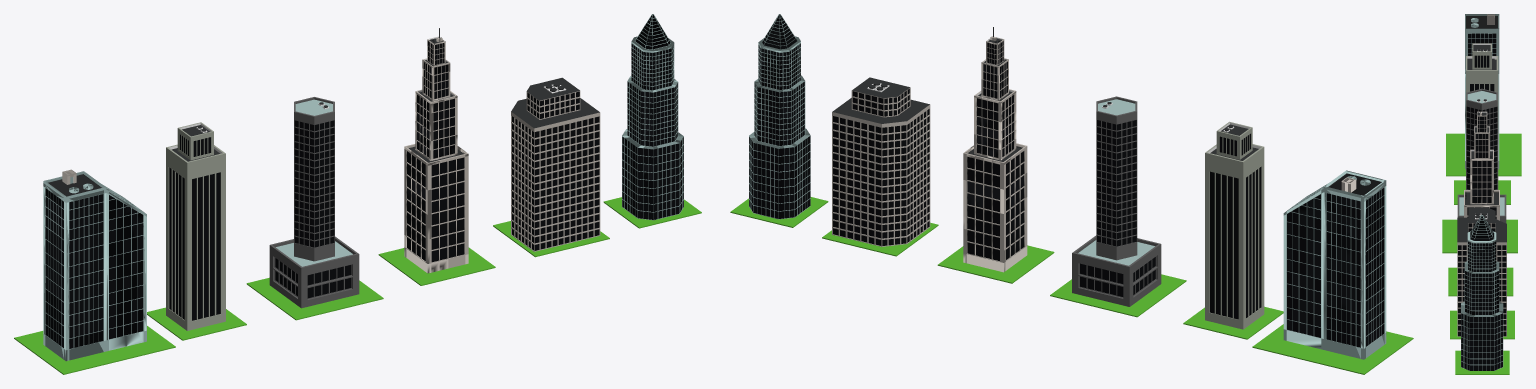
The picture shows the model from 3 angles, left to right: view 1: azimuth 30°, elevation 25°; view 2: azimuth 150°, elevation 25°; view 3: azimuth 270°, elevation 25°; orthographic projection. The views are drawn at different scales.
Visible parts, largest first — view 1: building_3, buildin_6_1, building_4, building_2, buliding_1, building_5, floor_5, floor_3, floor_6, floor_4, floor, floor_2; view 2: building_3, buildin_6_1, building_4, building_2, buliding_1, building_5, floor_5, floor_3, floor_6, floor_4, floor, floor_2; view 3: building_5, buildin_6_1, building_4, buliding_1, floor_5, building_2, building_3, floor_3, floor, floor_2, floor_6, floor_4.
Boxes of the visible parts, <box> form: building_3: <box>43,169,146,361</box>; buildin_6_1: <box>511,77,600,251</box>; building_4: <box>404,28,468,273</box>; building_2: <box>166,122,225,330</box>; buliding_1: <box>269,97,359,308</box>; building_5: <box>622,14,683,220</box>; floor_5: <box>14,326,175,374</box>; floor_3: <box>246,277,383,320</box>; floor_6: <box>378,247,495,285</box>; floor_4: <box>147,307,246,340</box>; floor: <box>603,197,701,228</box>; floor_2: <box>493,221,609,257</box>; building_3: <box>1283,170,1386,359</box>; buildin_6_1: <box>832,77,930,246</box>; building_4: <box>963,27,1027,272</box>; building_2: <box>1205,121,1264,329</box>; buliding_1: <box>1072,96,1161,306</box>; building_5: <box>749,14,810,219</box>; floor_5: <box>1252,324,1413,374</box>; floor_3: <box>1050,274,1186,317</box>; floor_6: <box>937,245,1054,283</box>; floor_4: <box>1183,306,1283,339</box>; floor: <box>730,197,828,227</box>; floor_2: <box>822,222,938,256</box>; building_5: <box>1461,215,1503,370</box>; buildin_6_1: <box>1457,207,1506,336</box>; building_4: <box>1464,105,1499,220</box>; buliding_1: <box>1457,88,1506,223</box>; floor_5: <box>1446,133,1521,176</box>; building_2: <box>1466,43,1498,189</box>; building_3: <box>1465,14,1499,169</box>; floor_3: <box>1442,219,1517,253</box>; floor: <box>1455,350,1509,374</box>; floor_2: <box>1450,310,1514,339</box>; floor_6: <box>1448,267,1513,296</box>; floor_4: <box>1454,180,1510,204</box>.
Bounding box in the file's own units: 17410 × 6006 × 2419.
